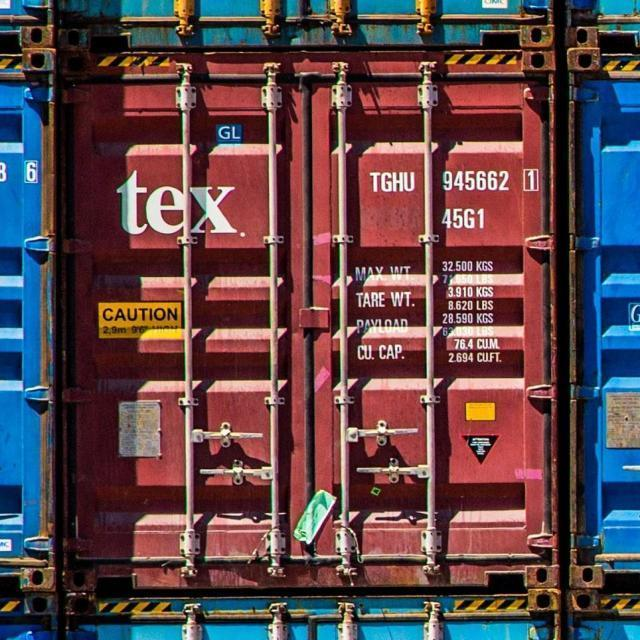ISO: (443, 206, 489, 233)
container_number: (367, 168, 546, 194)
